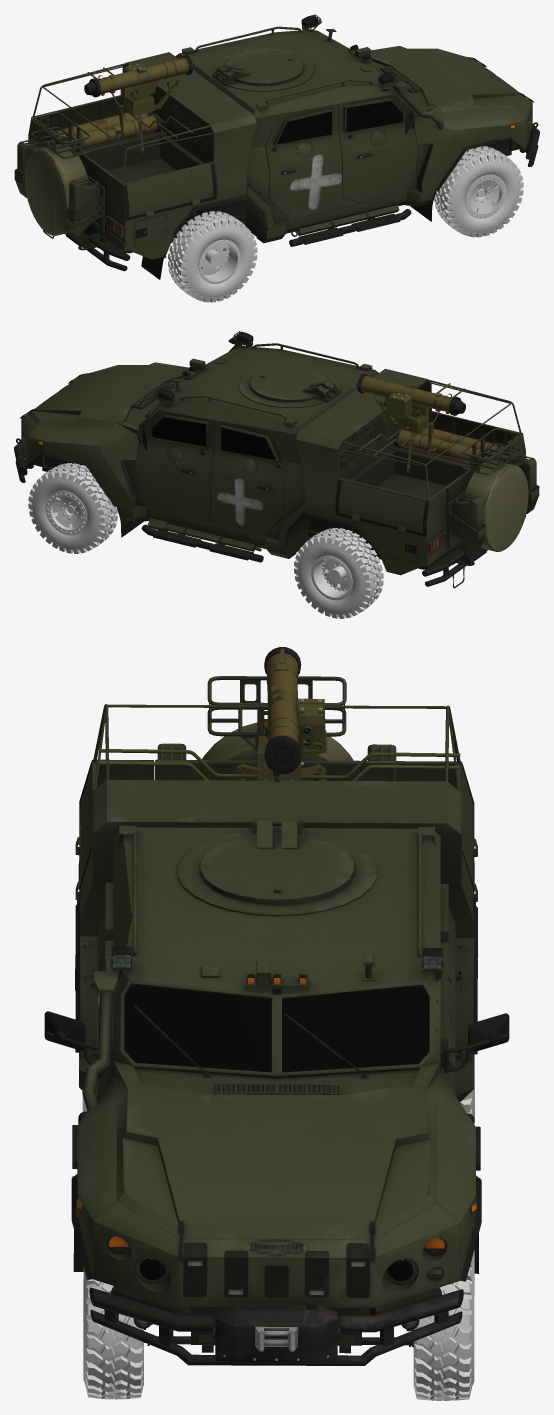
Rendered from novator.fbx.
3 views of the same model, one above another, from view 1: azimuth 30°, elevation 25°; view 2: azimuth 150°, elevation 25°; view 3: azimuth 270°, elevation 25° (orthographic). The views are drawn at different scales.
Visible parts, largest first — view 1: chassis, roue_03, roue_droite_01, window, axe_canon_01, bk, stugna, tourelle_01; view 2: chassis, roue_04, roue_gauche_01, axe_canon_01, window, bk, stugna, tourelle_01; view 3: chassis, window, axe_canon_01, roue_gauche_01, roue_droite_01, stugna.
Part boxes in pixels (<box>): chassis: <box>14,14,539,279</box>; roue_03: <box>168,211,257,302</box>; roue_droite_01: <box>434,146,523,237</box>; window: <box>277,100,403,144</box>; axe_canon_01: <box>84,55,192,100</box>; bk: <box>52,112,161,148</box>; stugna: <box>87,67,193,155</box>; tourelle_01: <box>122,91,154,115</box>; chassis: <box>14,331,539,588</box>; roue_04: <box>294,528,383,618</box>; roue_gauche_01: <box>28,463,117,553</box>; axe_canon_01: <box>357,373,465,418</box>; window: <box>152,417,275,459</box>; bk: <box>394,427,501,463</box>; stugna: <box>358,383,464,473</box>; tourelle_01: <box>397,410,429,433</box>; chassis: <box>44,676,509,1365</box>; window: <box>105,959,429,1281</box>; axe_canon_01: <box>264,647,326,774</box>; roue_gauche_01: <box>413,1250,474,1400</box>; roue_droite_01: <box>83,1267,143,1399</box>; stugna: <box>99,749,460,782</box>.
Bounding box in the file's own units: 7.17 × 2.98 × 2.94.
